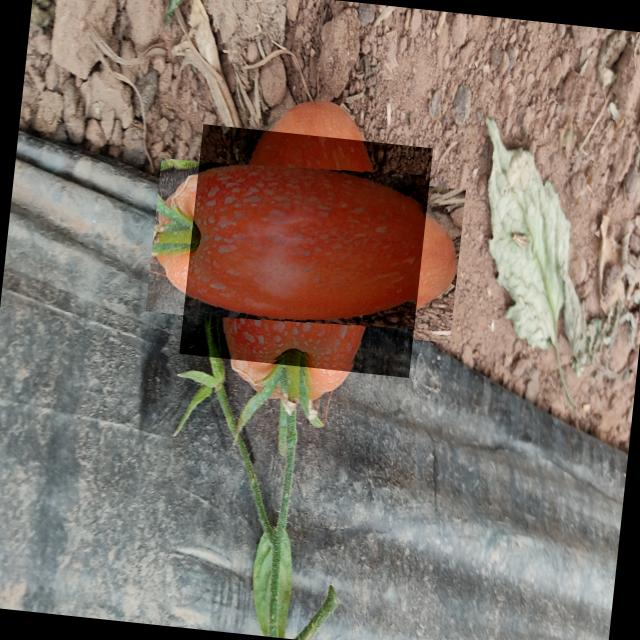Ripe Tomato: (178, 124, 432, 378)
